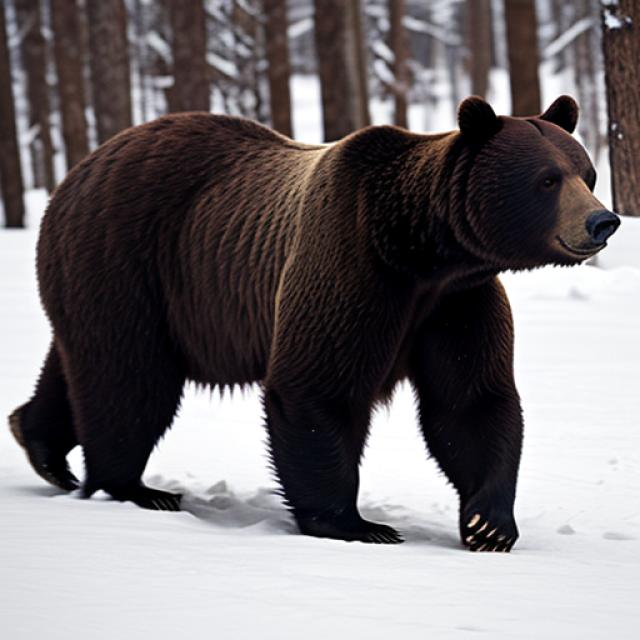bear: (413, 83, 630, 273)
